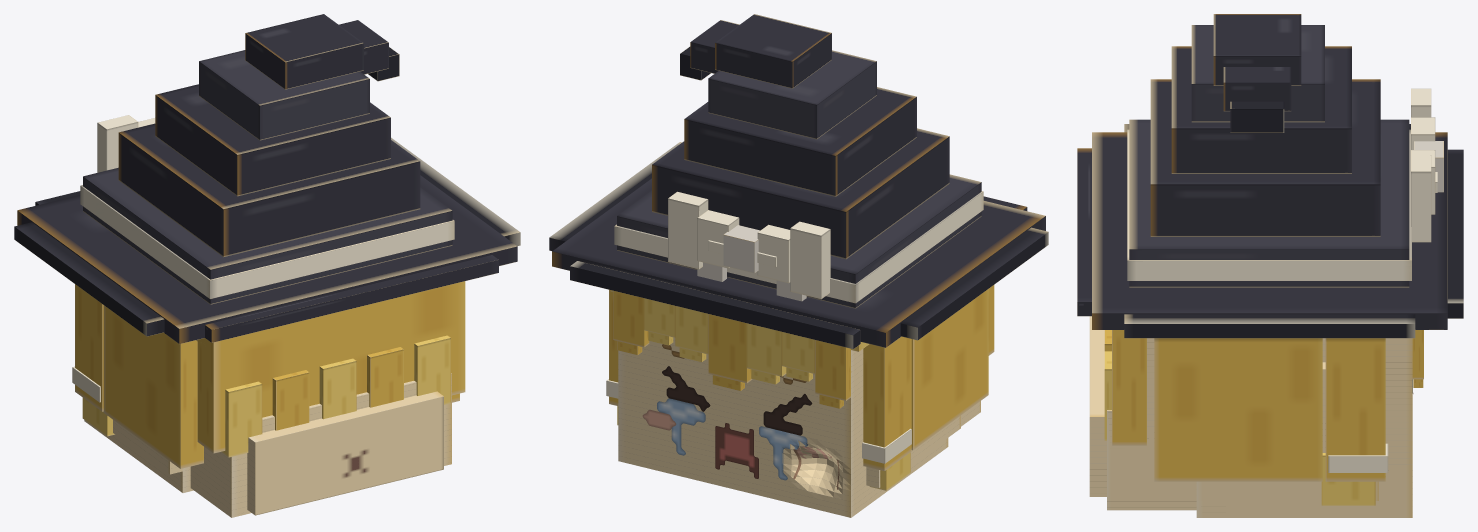
Rendered from dent_marisa_2.obj.
3 renders of one model, left to right at view 1: azimuth 30°, elevation 25°; view 2: azimuth 150°, elevation 25°; view 3: azimuth 270°, elevation 25°, orthographic. The views are drawn at different scales.
Visible parts, largest first — view 1: dent_marisa_2; view 2: dent_marisa_2; view 3: dent_marisa_2.
Boxes of the visible parts, <box> form: dent_marisa_2: <box>14,14,520,517</box>; dent_marisa_2: <box>549,14,1048,517</box>; dent_marisa_2: <box>1077,14,1463,517</box>.
Size of the model in its own units: 19 by 19.34 by 15.53.
Materials: 1 (1 with a texture image).
